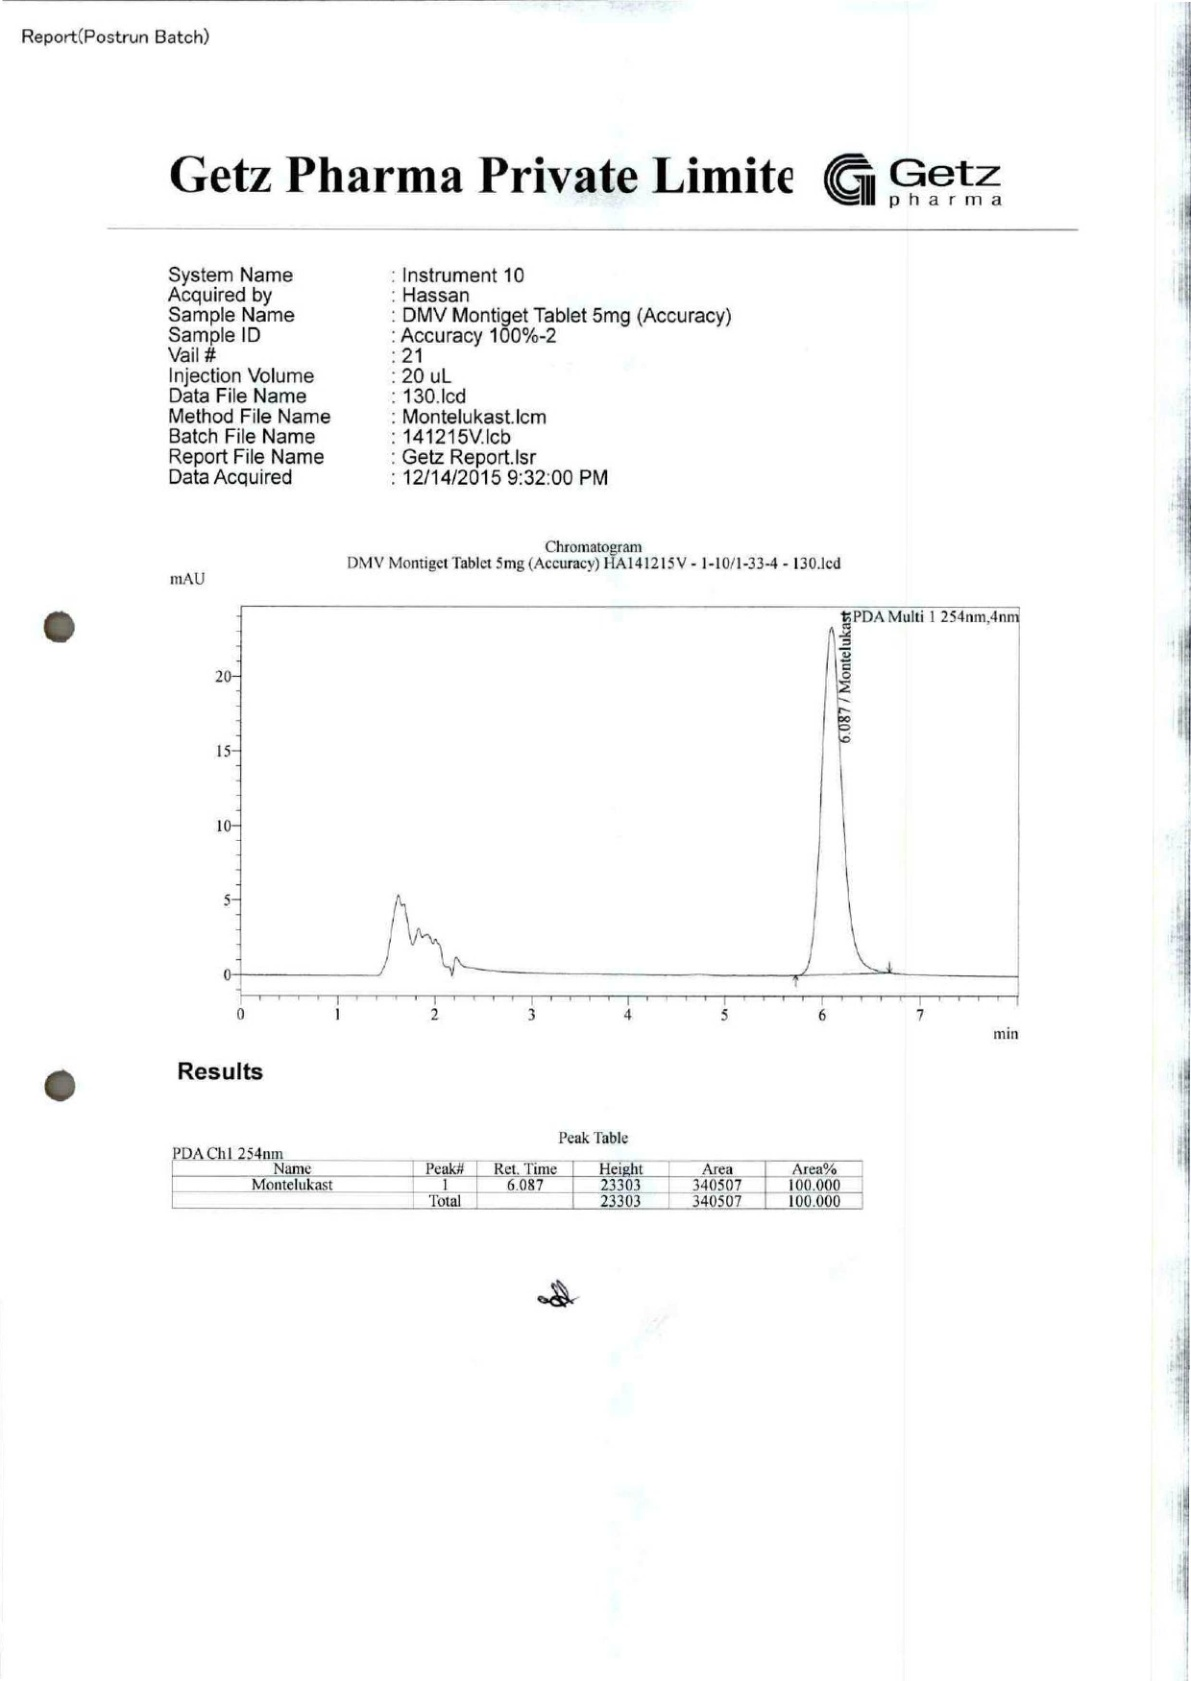full_lined: (171, 1159, 864, 1210)
nolines: (164, 263, 733, 489)
